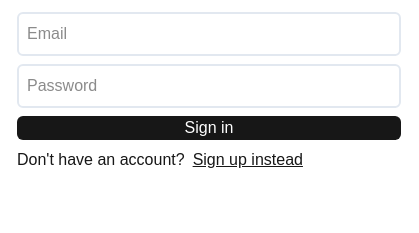
shows error message when sign-in fails
Type "test@example.com" into the field with placeholder "Email".
click(209, 34); type("test@example.com")  # box [17,12,401,56]
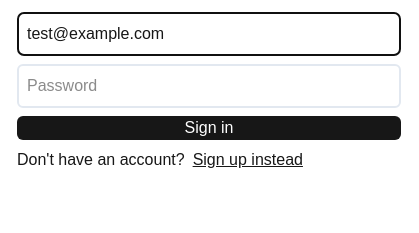
Type "wrongpass" into the password field with placeholder "Password".
click(209, 86); type("wrongpass")  # box [17,64,401,108]
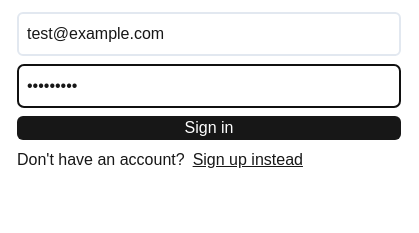
Click the button "Sign in".
click(209, 128)  # box [17,116,401,140]
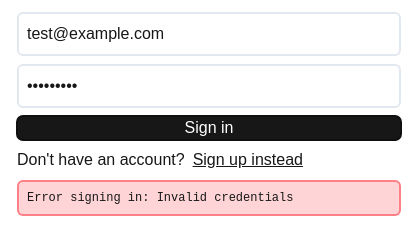
Result: the text "Error signing in: Invalid credentials" is shown at [27,191,294,205]
